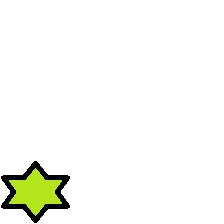star: (2, 161, 70, 224)
